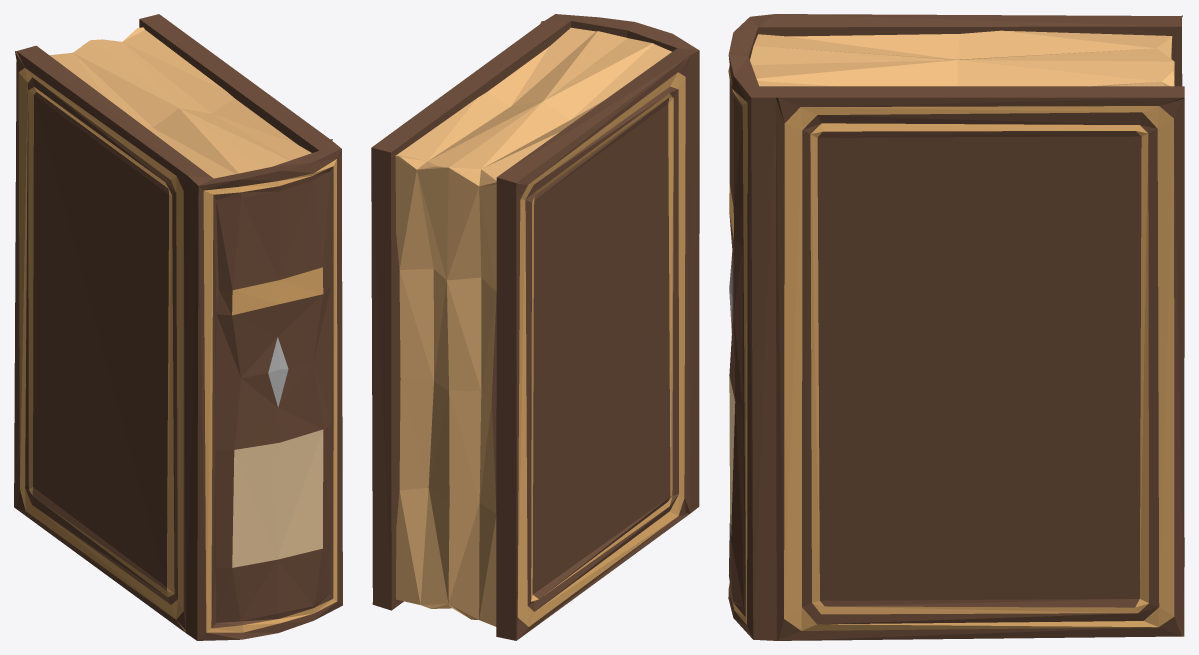
Rendered from SFHW_Book_033.fbx.
3 renders of one model, left to right at view 1: azimuth 30°, elevation 25°; view 2: azimuth 150°, elevation 25°; view 3: azimuth 270°, elevation 25°, orthographic. The views are drawn at different scales.
Visible parts, largest first — view 1: SFHW_Book_033; view 2: SFHW_Book_033; view 3: SFHW_Book_033.
Part boxes in pixels (bbox=[...]): SFHW_Book_033: bbox=[14, 14, 342, 640]; SFHW_Book_033: bbox=[371, 14, 699, 640]; SFHW_Book_033: bbox=[728, 14, 1184, 640].
Bounding box in the file's own units: 10.66 × 31.55 × 23.88.
